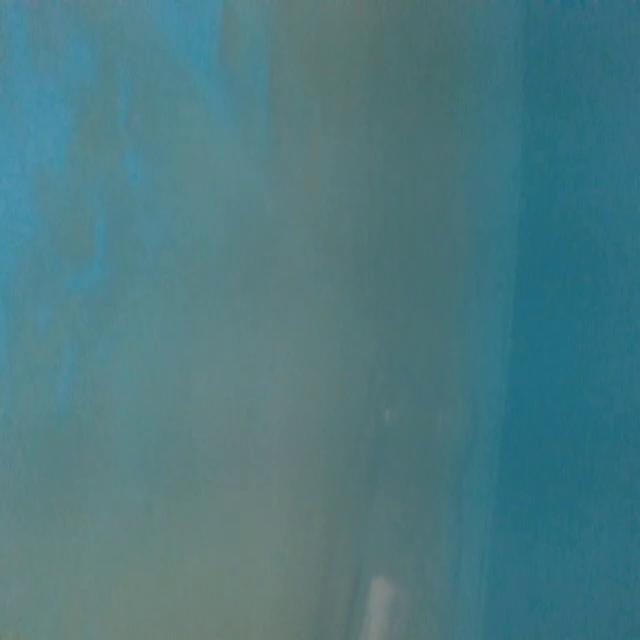plastic bottle: (346, 338, 478, 639)
